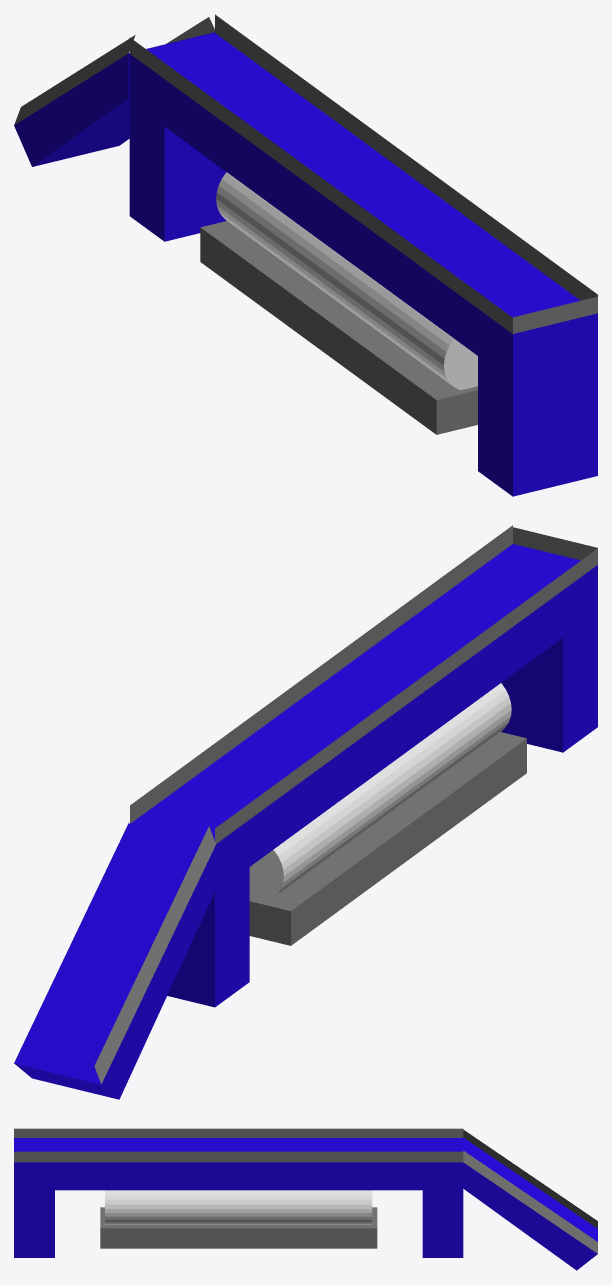
The model's file is airport_fuel_storage.fbx.
3 views of the same model, one above another, from view 1: azimuth 30°, elevation 25°; view 2: azimuth 150°, elevation 25°; view 3: azimuth 270°, elevation 25° (orthographic). The views are drawn at different scales.
Parts seen in each view (by area): view 1: airport_fuel_storage; view 2: airport_fuel_storage; view 3: airport_fuel_storage.
Boxes of the visible parts, bbox=[...] form: airport_fuel_storage: bbox=[14, 14, 597, 496]; airport_fuel_storage: bbox=[14, 525, 597, 1099]; airport_fuel_storage: bbox=[14, 1128, 597, 1270].
Bounding box in the file's own units: 26.52 × 57.7 × 257.
